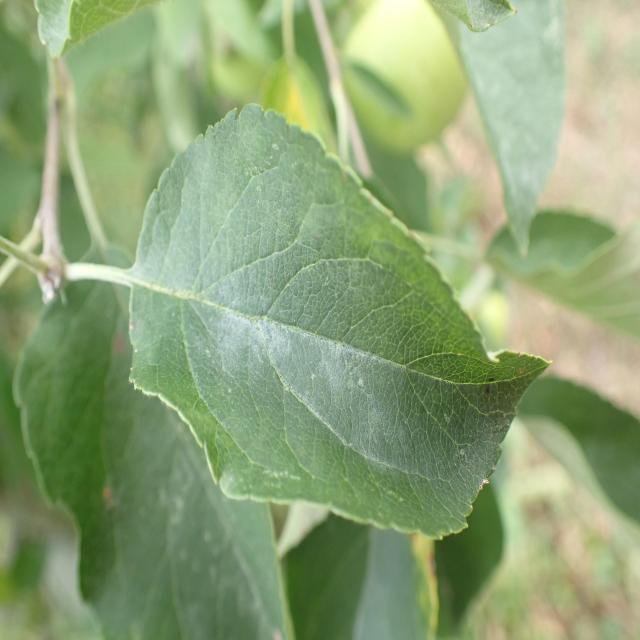Powdery_mildew: (129, 111, 529, 532)
